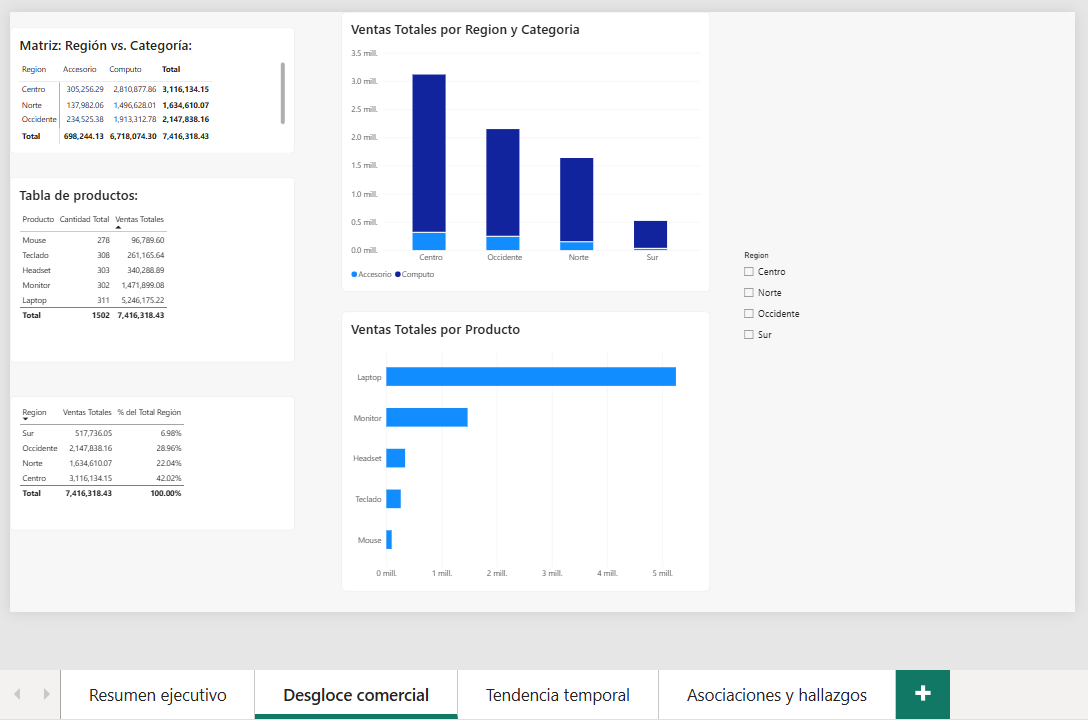

This screenshot's page, from the dashboard's own definition file:
{"tool":"powerbi","page":{"name":"Desgloce comercial","canvas":[1920,1080],"ordinal":1},"visuals":[{"type":"pivotTable","title":"Matriz: Región vs. Categoría:","fields":{"Columns":["Dim Producto.Categoria"],"Rows":["Dim Cliente.Region"],"Values":["Medidas.Ventas Totales"]},"box":[0,26.7,513.3,226.7],"z":0},{"type":"tableEx","title":"Tabla de productos:","fields":{"Values":["Dim Producto.Producto","Medidas.Cantidad Total","Medidas.Ventas Totales"]},"box":[0,296.7,513.3,333.3],"z":1000},{"type":"slicer","fields":{"Values":["Dim Cliente.Region"]},"box":[1314,430,280,280],"z":2000},{"type":"columnChart","fields":{"Category":["Dim Cliente.Region"],"Series":["Dim Producto.Categoria"],"Y":["Medidas.Ventas Totales"]},"box":[598,0,664,504],"z":3000},{"type":"clusteredBarChart","fields":{"Category":["Dim Producto.Producto"],"Y":["Medidas.Ventas Totales"]},"box":[598,540,664,504],"z":4000},{"type":"tableEx","fields":{"Values":["Dim Cliente.Region","Medidas.Ventas Totales","Medidas.% del Total Región"]},"box":[0,692.9,512.9,241.4],"z":4001}]}

Visuals, with their boxes on the page's 1920x1080 design canvas (x1, y1, x2, y2). These are canvas units, not pixel positions in the 1088x720 screenshot, which may show the page scaled, cropped or inside an application window:
"Matriz: Región vs. Categoría:" pivotTable: bbox=[0, 27, 513, 253]
"Tabla de productos:" tableEx: bbox=[0, 297, 513, 630]
slicer - Dim Cliente.Region: bbox=[1314, 430, 1594, 710]
columnChart - Dim Cliente.Region x Dim Producto.Categoria: bbox=[598, 0, 1262, 504]
clusteredBarChart - Dim Producto.Producto x Medidas.Ventas Totales: bbox=[598, 540, 1262, 1044]
tableEx - Dim Cliente.Region x Medidas.Ventas Totales: bbox=[0, 693, 513, 934]
